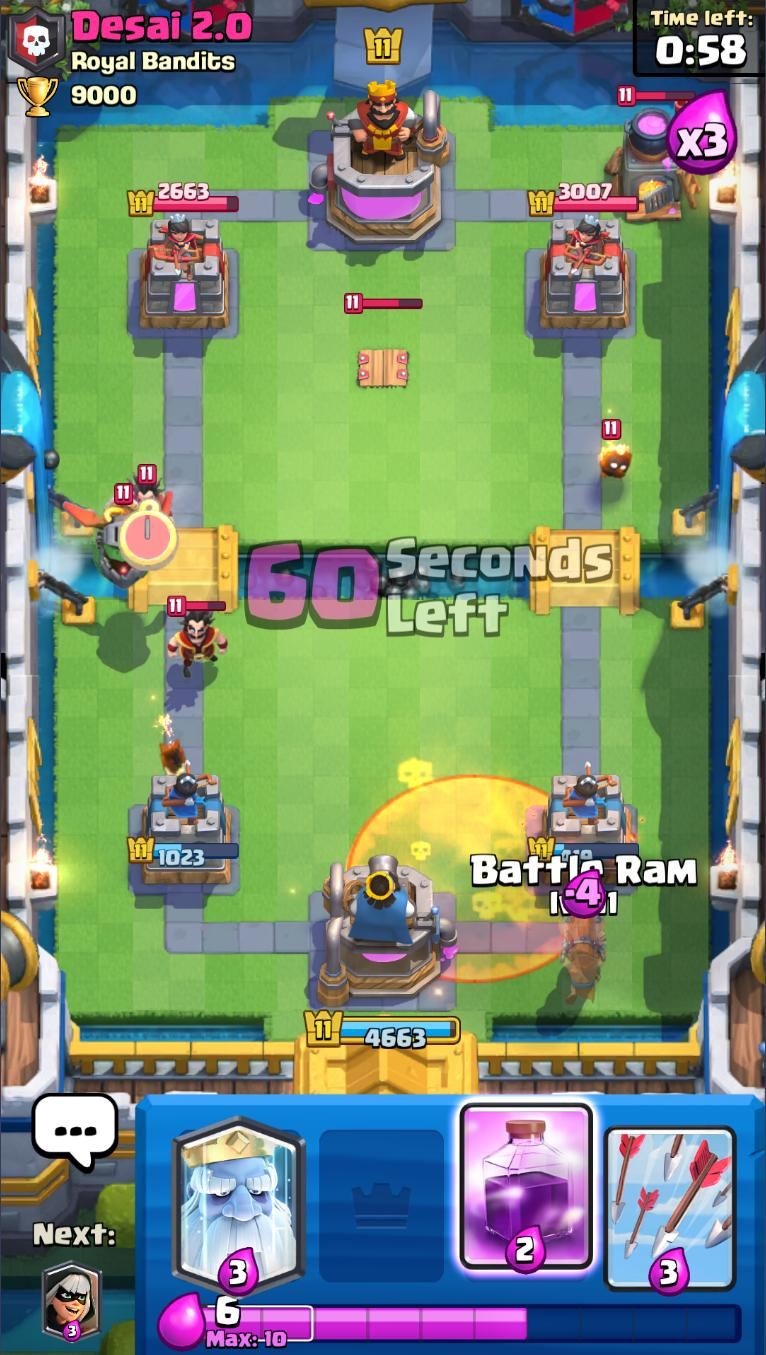ArrowDeck: (598, 1095, 743, 1296)
BanditNext: (41, 1264, 104, 1342)
ElectroWizard: (159, 596, 238, 681), (120, 464, 175, 520)
Elixir: (202, 1294, 743, 1349)
Empty: (312, 1096, 453, 1298)
EnemyTower: (138, 215, 232, 331), (539, 215, 632, 331)
FireSpirit: (594, 418, 633, 483)
Furnace: (606, 87, 702, 223)
InfernoDragon: (64, 483, 173, 587)
KingTower: (310, 79, 451, 248)
MyKingHP: (301, 1008, 461, 1049)
MyKingTower: (316, 856, 459, 1009)
MyPrincessTower: (125, 771, 242, 889), (528, 770, 641, 889)
MyPrincessTowerHP: (125, 835, 241, 868), (527, 835, 641, 868)
Poison: (347, 774, 599, 981)
PrincessTower: (149, 215, 203, 277), (562, 216, 615, 274)
RageDeck: (454, 1097, 598, 1296)
RoyaleGhostDeck: (166, 1096, 312, 1294)
TeslaHidden: (343, 292, 424, 392)
TowerPrincessHP: (127, 182, 240, 217), (528, 182, 641, 216)
